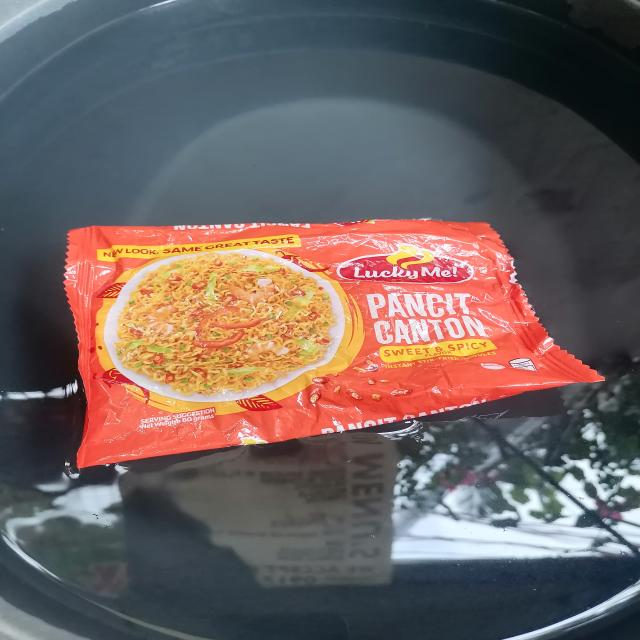Plastic Wrapper: (41, 202, 618, 476)
